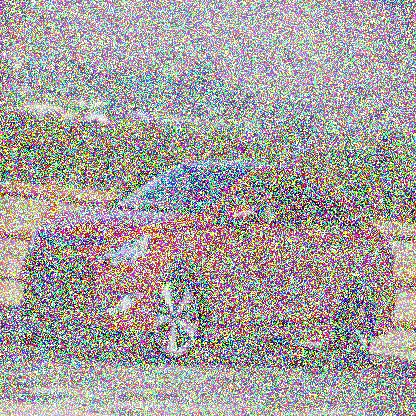Vehicle: (20, 160, 398, 369)
